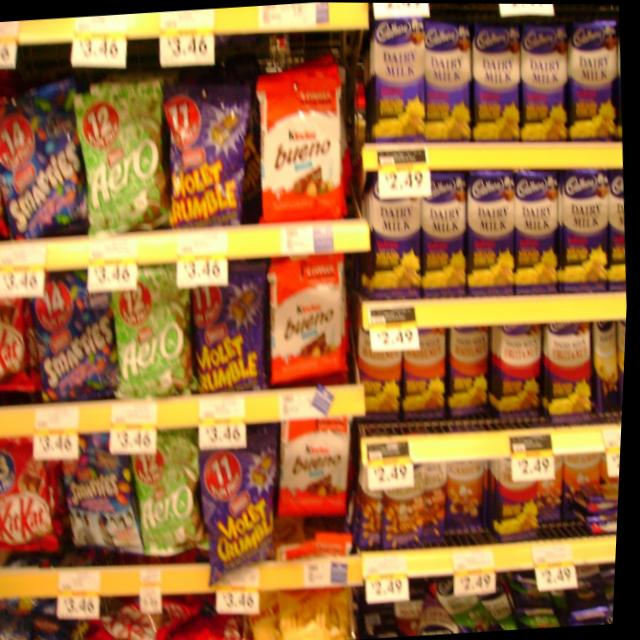q145: (417, 12, 481, 147), (366, 14, 432, 140), (564, 11, 627, 138), (464, 162, 522, 291), (417, 164, 474, 291), (465, 22, 526, 137), (554, 168, 616, 281), (510, 176, 568, 294), (519, 23, 579, 131), (365, 180, 425, 286)
q280: (0, 446, 69, 572)
